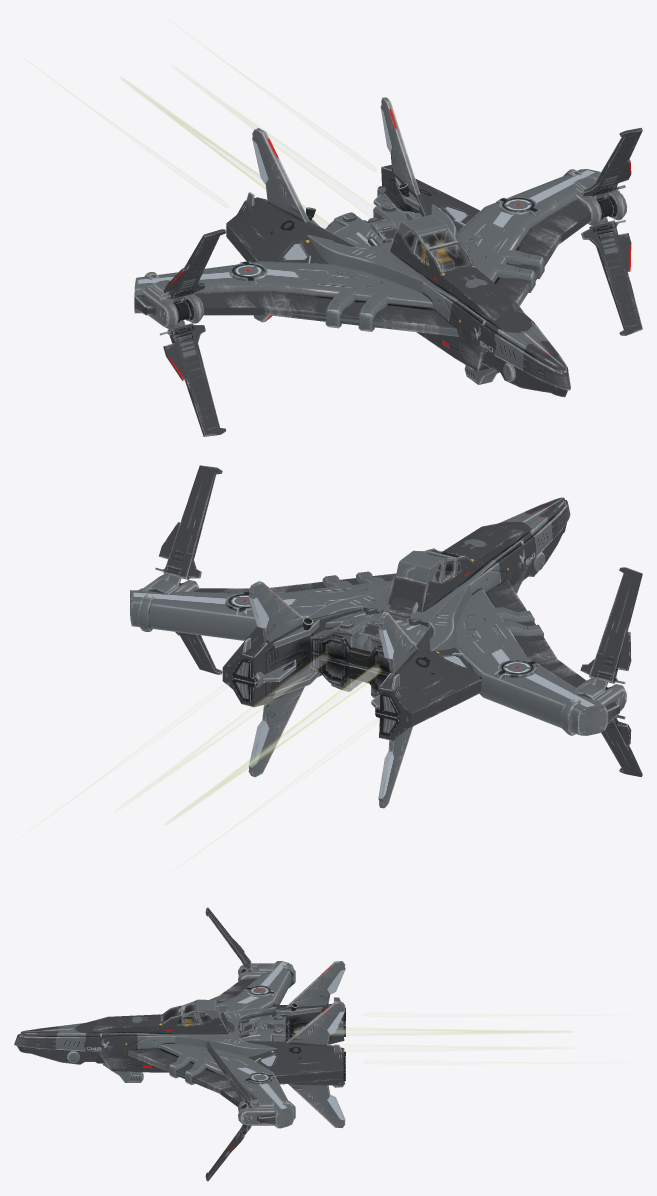
Rendered from ship_raven.glb.
3 views of the same model, one above another, from view 1: azimuth 30°, elevation 25°; view 2: azimuth 150°, elevation 25°; view 3: azimuth 270°, elevation 25° (orthographic). The views are drawn at different scales.
Parts seen in each view (by area): view 1: Object_3, Object_6, Object_4; view 2: Object_3, Object_6; view 3: Object_3, Object_6, Object_4.
Boxes of the visible parts, box(x1,y1,x2,y2) form: Object_3: box(134, 97, 642, 436); Object_6: box(56, 46, 376, 228); Object_4: box(404, 229, 470, 272); Object_3: box(130, 465, 642, 808); Object_6: box(58, 654, 381, 845); Object_3: box(14, 907, 345, 1181); Object_6: box(293, 1013, 569, 1063); Object_4: box(163, 1003, 212, 1025).
Size of the model in its own units: 1699 by 703 by 2959.
Materials: 4 (4 with a texture image).
